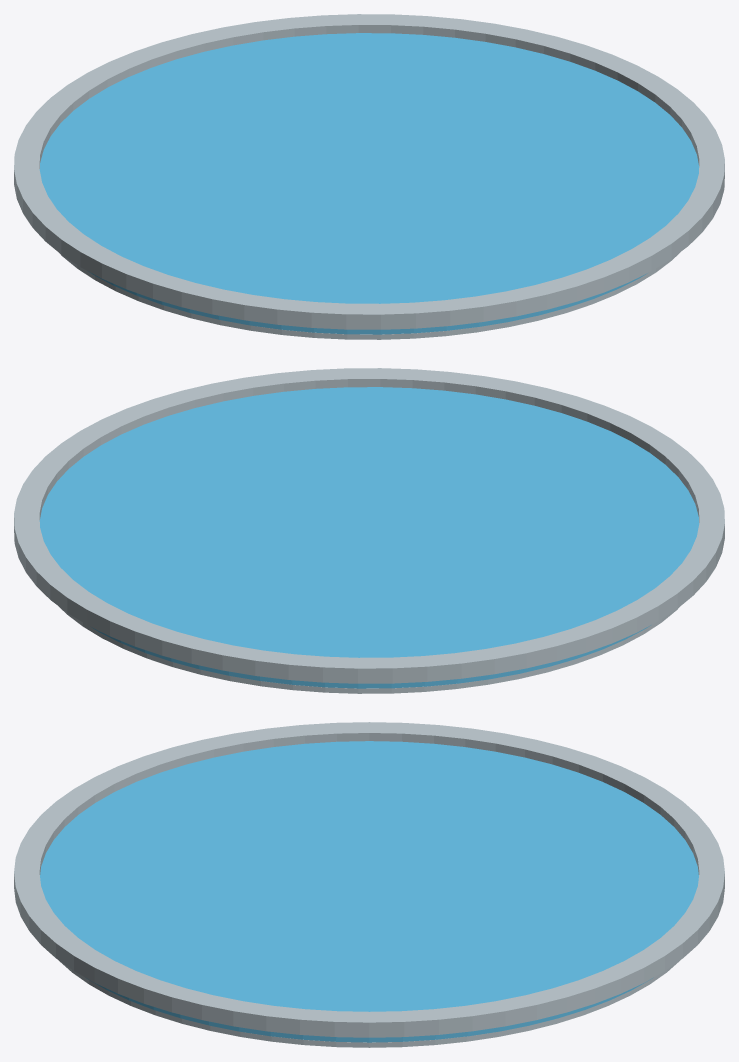
Rendered from 09_L73_SiliconWaferSubstrate.fbx.
3 views of the same model, one above another, from view 1: azimuth 30°, elevation 25°; view 2: azimuth 150°, elevation 25°; view 3: azimuth 270°, elevation 25° (orthographic).
Parts seen in each view (by area): view 1: SiliconWaferSubstrate; view 2: SiliconWaferSubstrate; view 3: SiliconWaferSubstrate.
Boxes of the visible parts, x1,y1,x2,y2 form: SiliconWaferSubstrate: [14, 14, 724, 339]; SiliconWaferSubstrate: [14, 368, 724, 693]; SiliconWaferSubstrate: [14, 722, 724, 1047].
Bounding box in the file's own units: 148 × 7.58 × 148.
